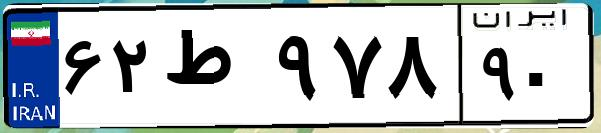0: (525, 38, 570, 115)
2: (110, 28, 158, 98)
6: (57, 26, 110, 100)
7: (330, 28, 385, 110)
8: (385, 28, 445, 110)
9: (270, 28, 330, 110), (475, 38, 525, 113)
ط: (158, 20, 270, 120)
